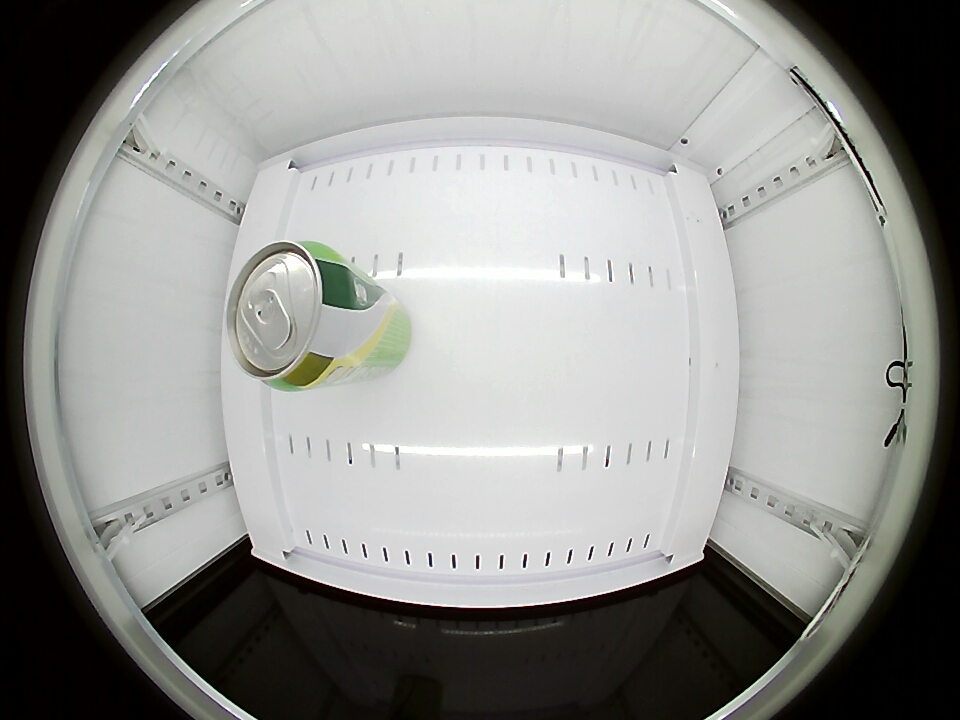quchenshixiangcao: (226, 240, 359, 389)
